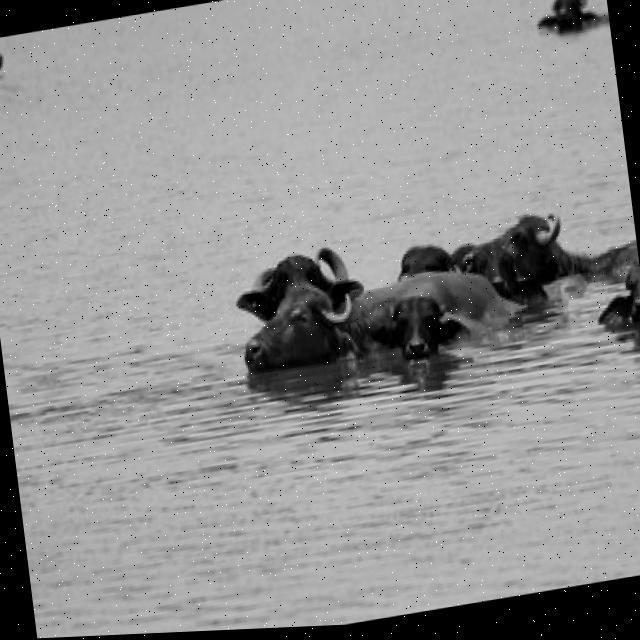Buffalo: (233, 263, 400, 384)
